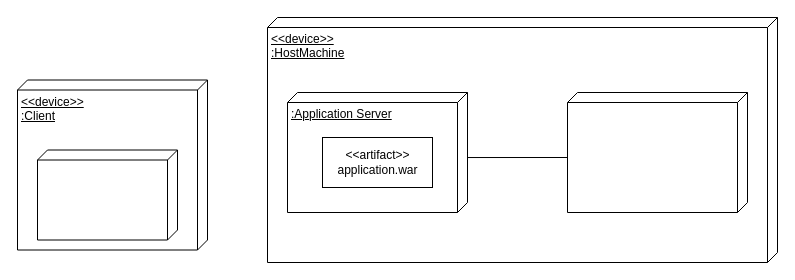
The diagram is 795 pixels wide and 280 high, and some of its shapes have lost their labels. Each missing label, with the centre of its shape:
":Browser" belongs at (107,194).
":Database Server" belongs at (657,152).
